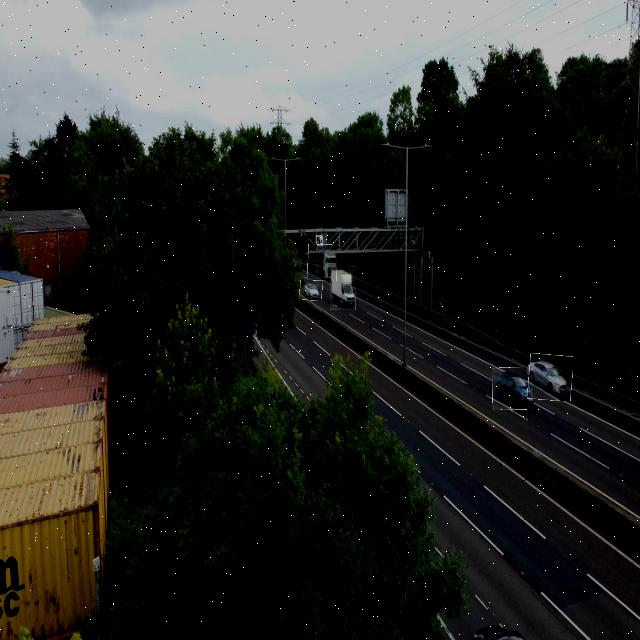Car: (528, 354, 573, 401), (492, 368, 533, 410), (300, 278, 322, 300)
Truck: (330, 266, 356, 310), (308, 245, 337, 281)
